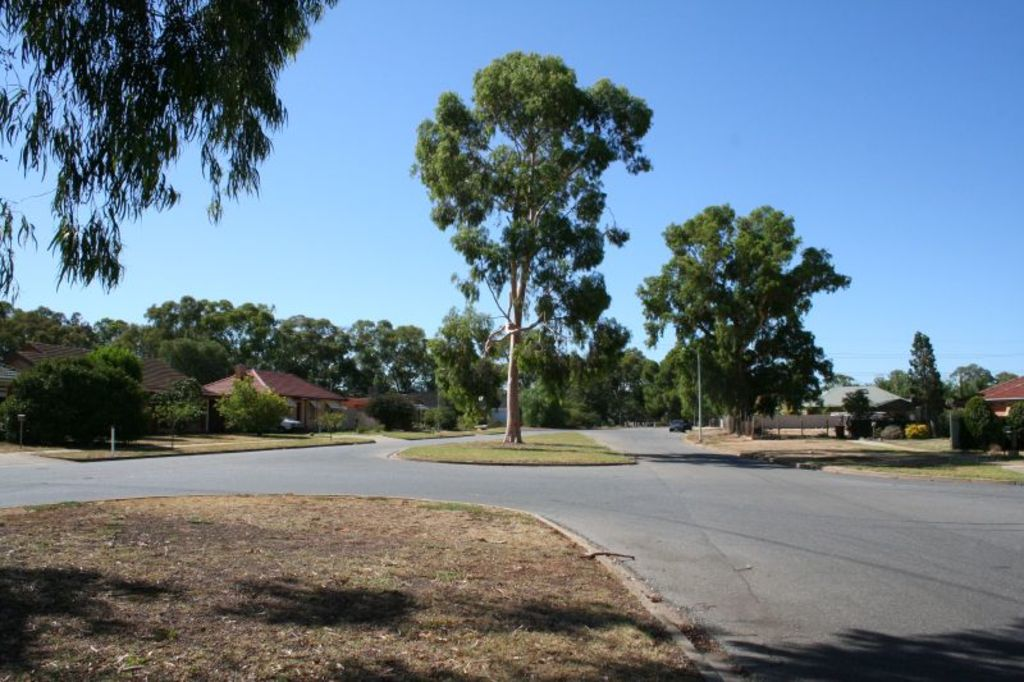Tree: (0, 0, 340, 322), (409, 49, 652, 441), (629, 198, 853, 436), (261, 312, 510, 397), (0, 353, 156, 446), (512, 314, 629, 431), (138, 295, 276, 386), (0, 298, 136, 350), (902, 330, 948, 436), (962, 392, 993, 451), (947, 362, 995, 397), (865, 368, 911, 397), (817, 371, 858, 391), (1009, 397, 1022, 452), (995, 368, 1020, 387)
